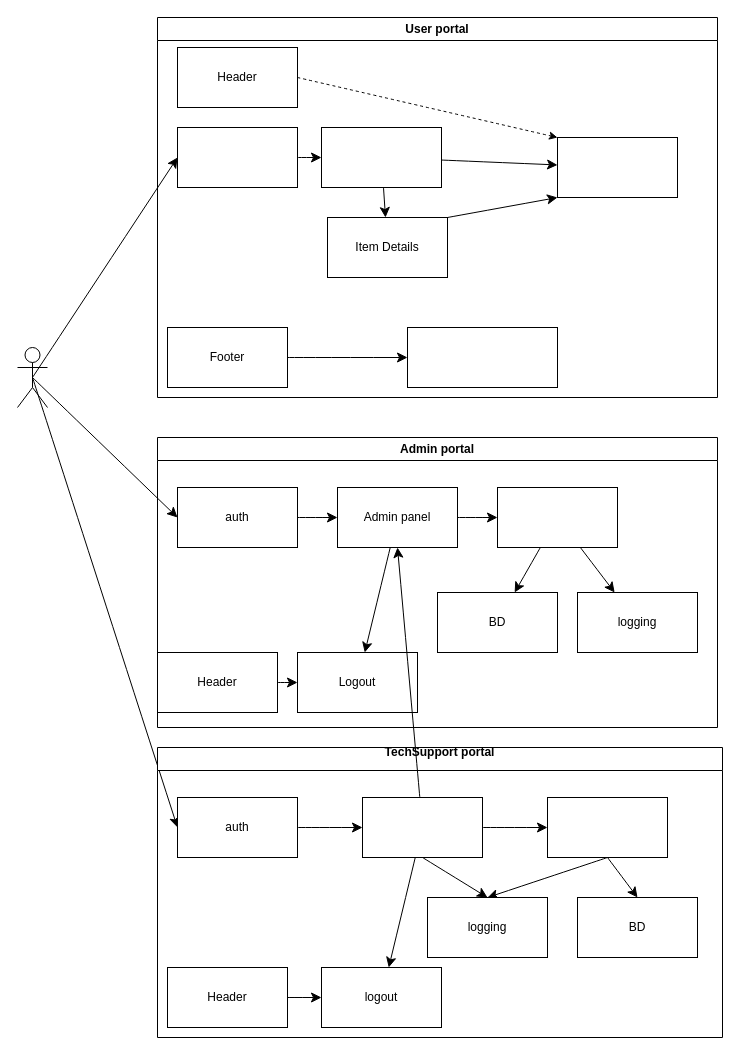
The diagram is 740 pixels wide and 1055 high, and some of its shapes have lost their labels. The box of each missing label's shape, as (x1, y1, x2, y2) in pixels:
@Loggingrequired Catalog: (320, 126, 442, 188)
add admin: (546, 796, 668, 858)
Bucket: (556, 136, 678, 198)
CRUD: (496, 486, 618, 548)
Landing: (176, 126, 298, 188)
Socical networks/Links/Contacts: (406, 326, 558, 388)
TechSupport panel: (362, 796, 482, 858)
User: (16, 346, 48, 408)
